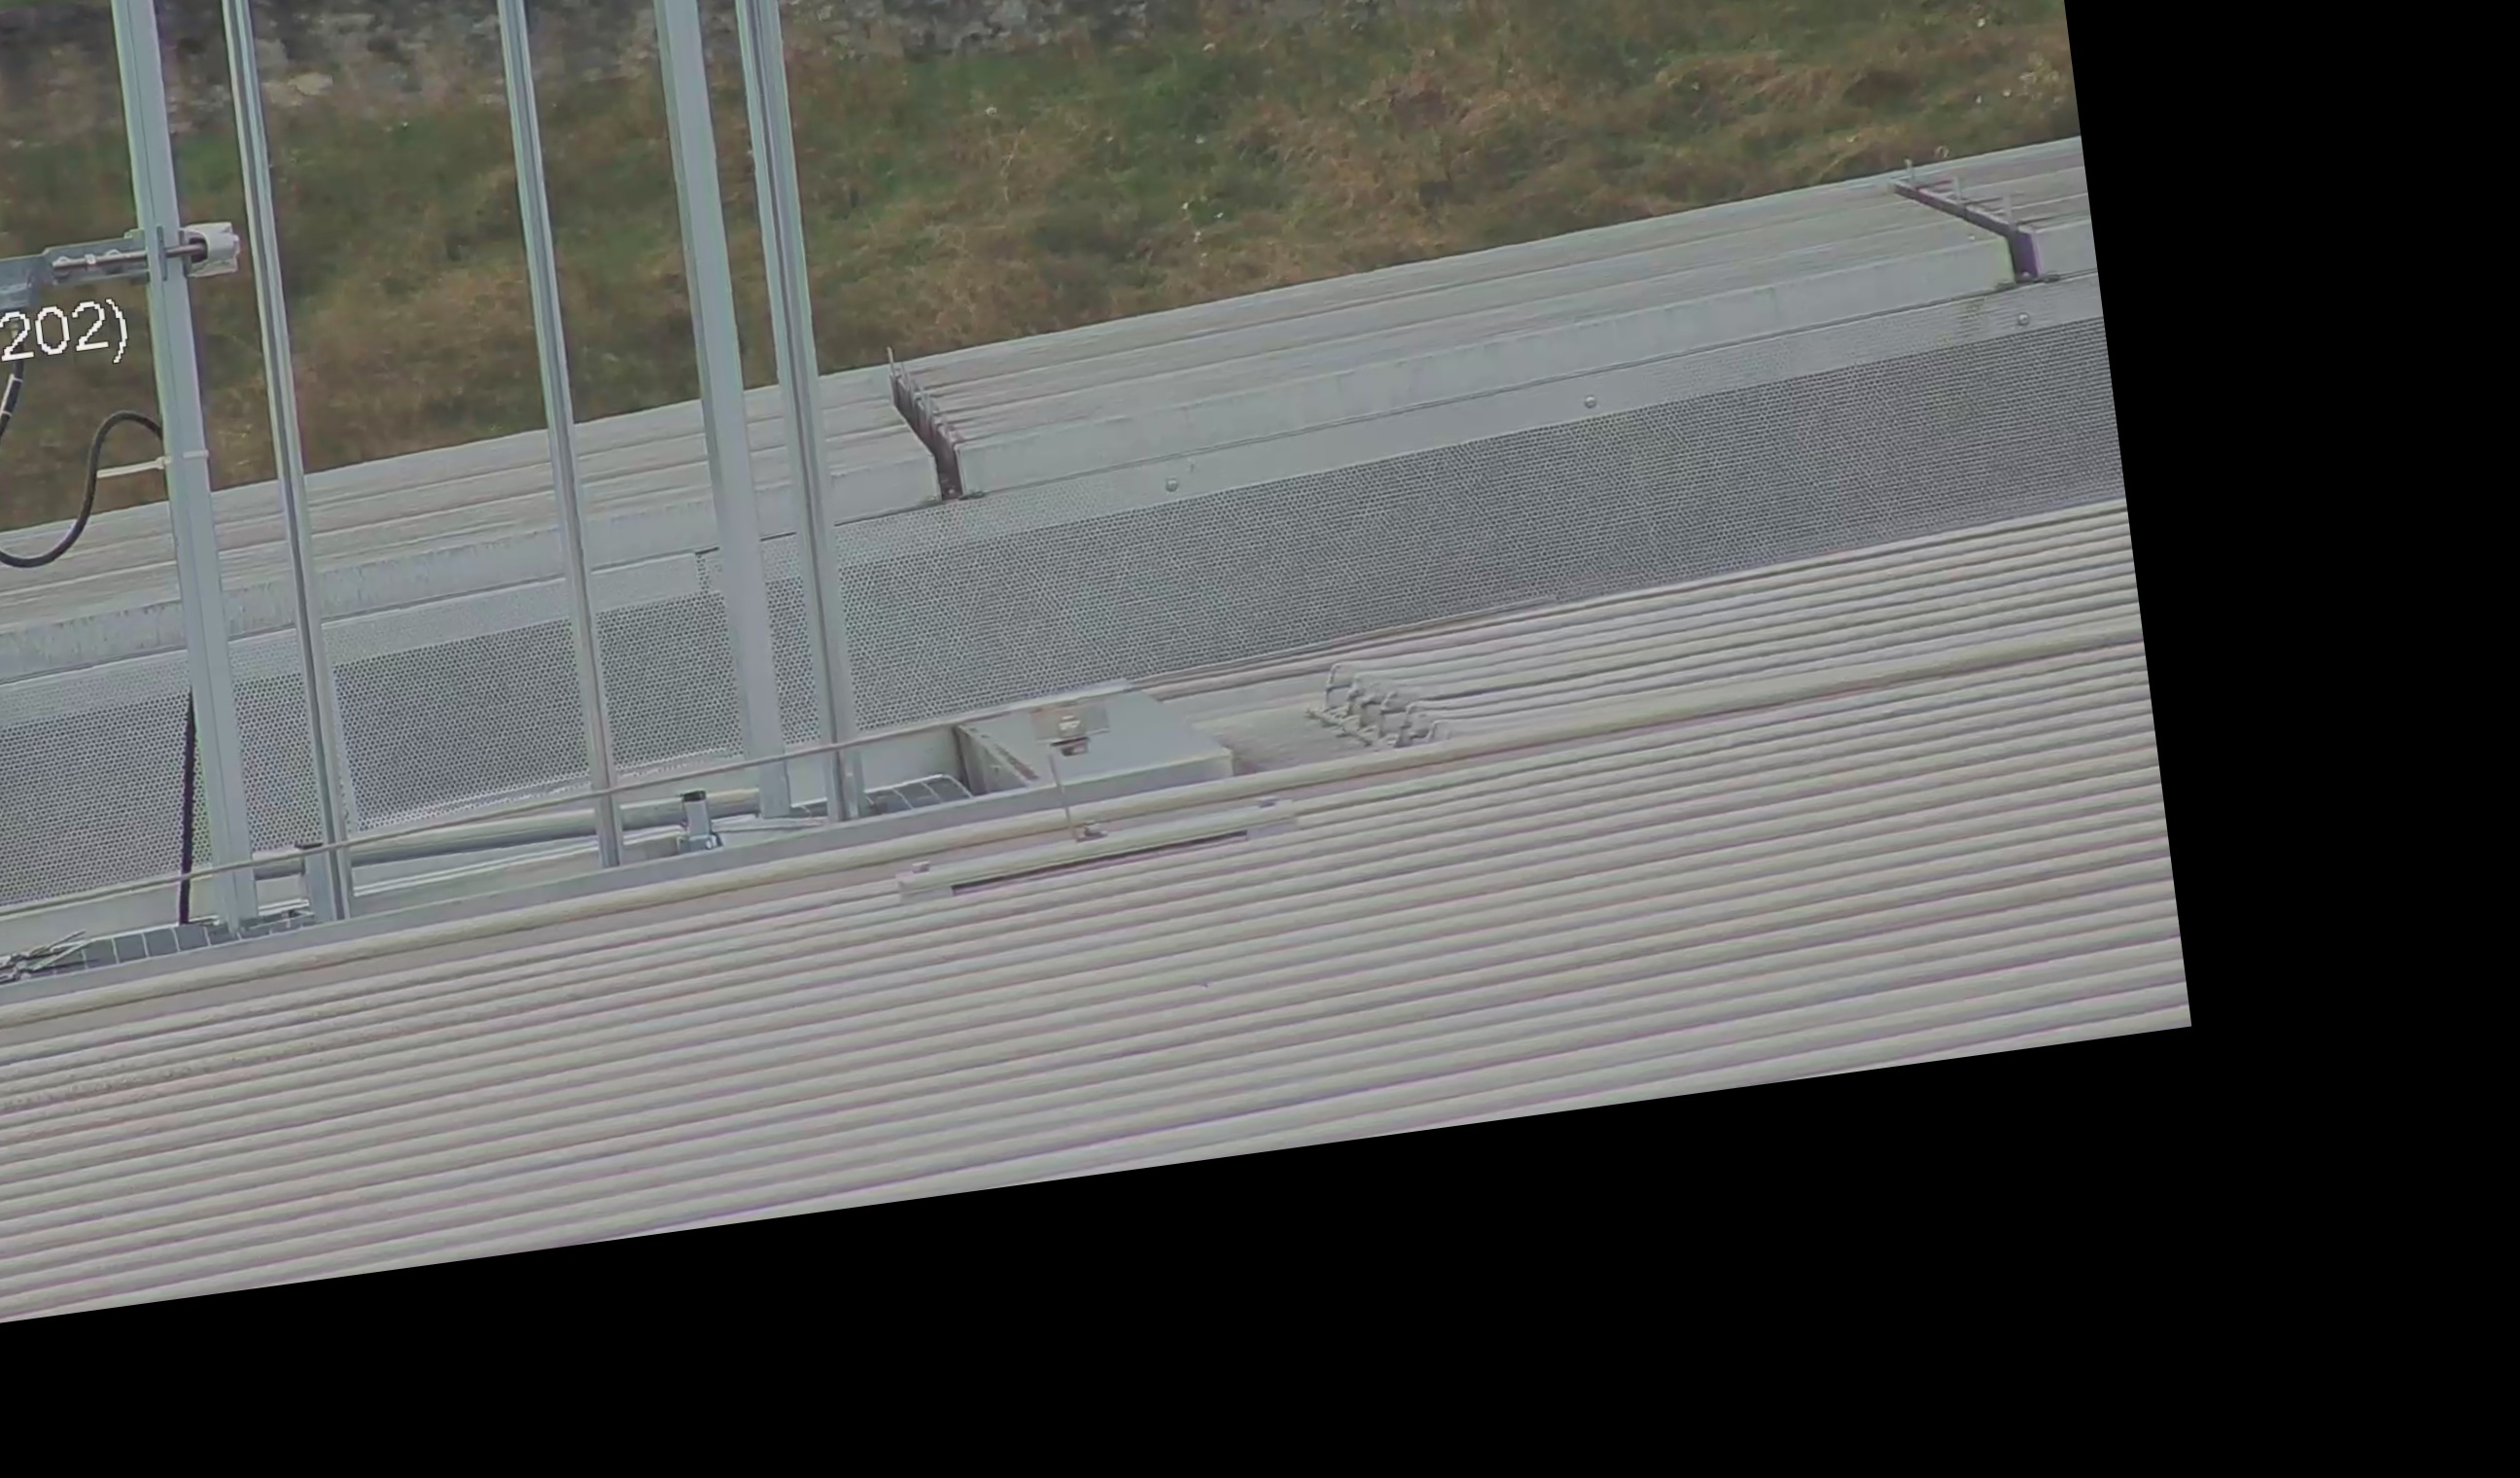Other: (860, 336, 995, 523)
